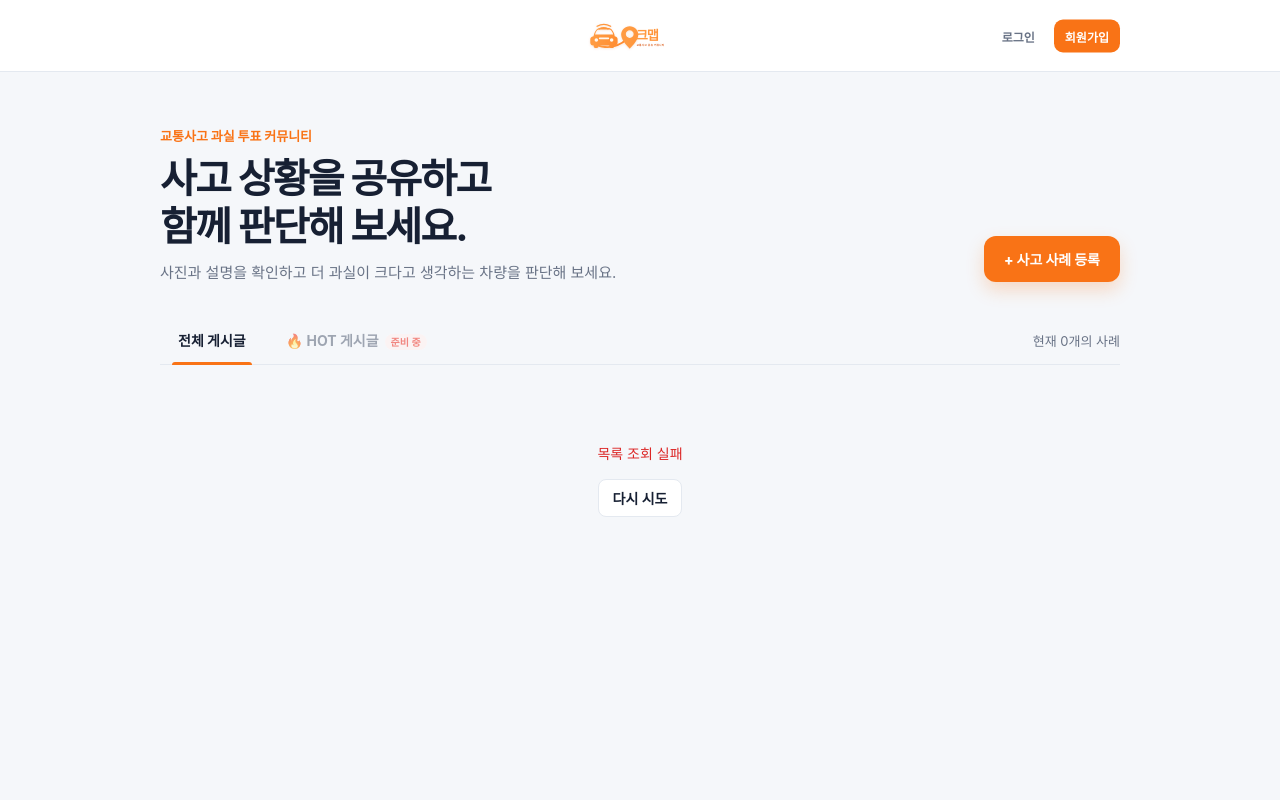
Test: BoardListPage › 첫 조회 실패 후 동일한 초기 조회 흐름으로 재시도한다
The width and height of the screenshot is (1280, 800).
Expected: the message shows "목록 조회 실패", 597,445 -> 683,462
Step 1. Click the button "다시 시도" → (640, 498), box 598,479 -> 682,517
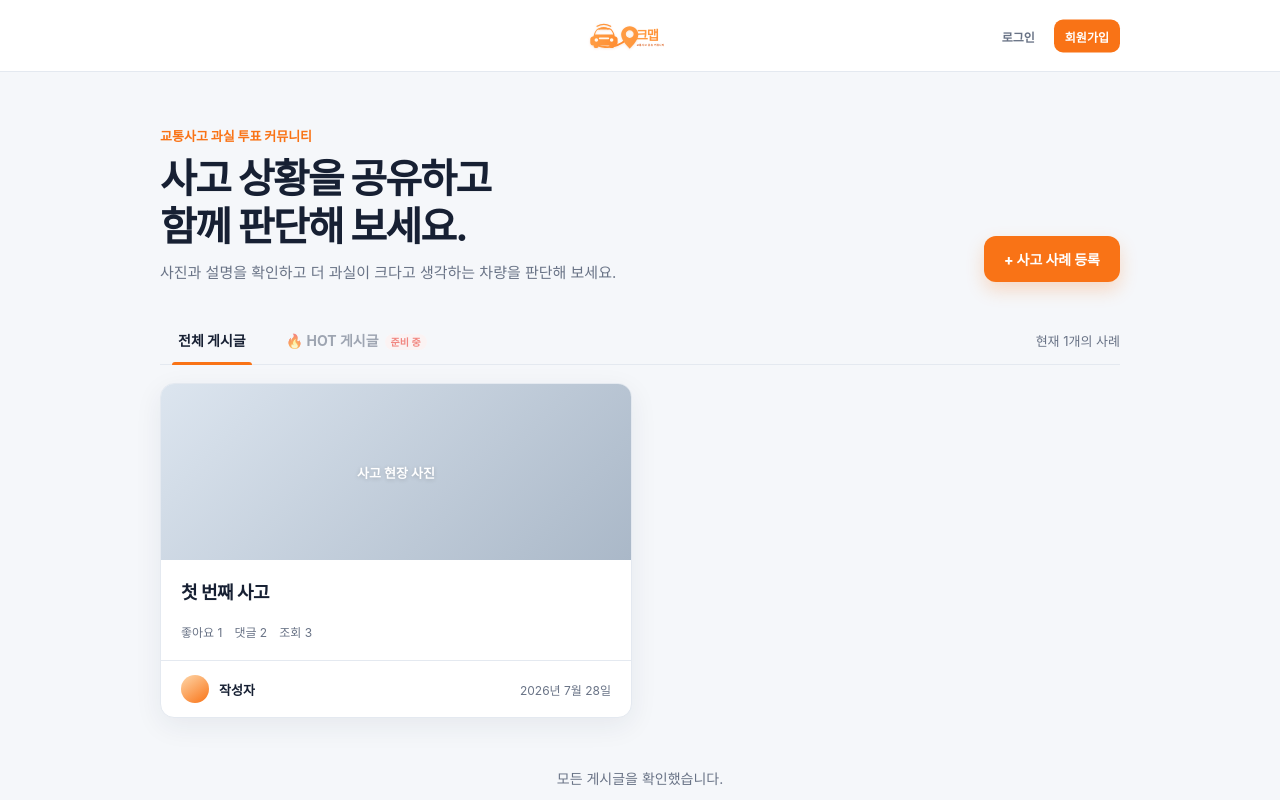
Expected: the heading "첫 번째 사고" is shown, 181,582 -> 269,603
